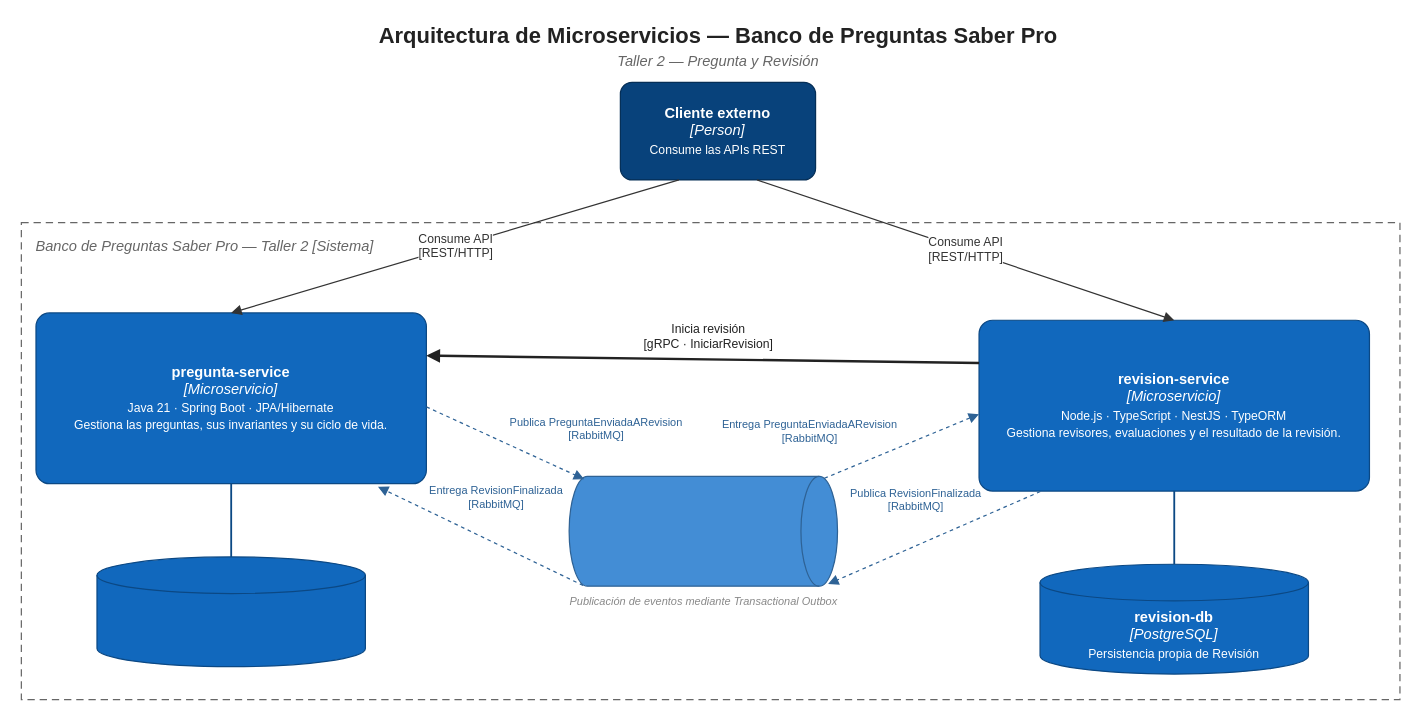
Some shapes in this 1421 by 721 pixel diagram are drawn without their labels. The centre of each missing label's shape, as x and y in pixels:
pregunta-db [PostgreSQL] Persistencia propia de Pregunta: pixel 230 611
RabbitMQ [Message Broker] Exchange: saberpro.events: pixel 703 530
